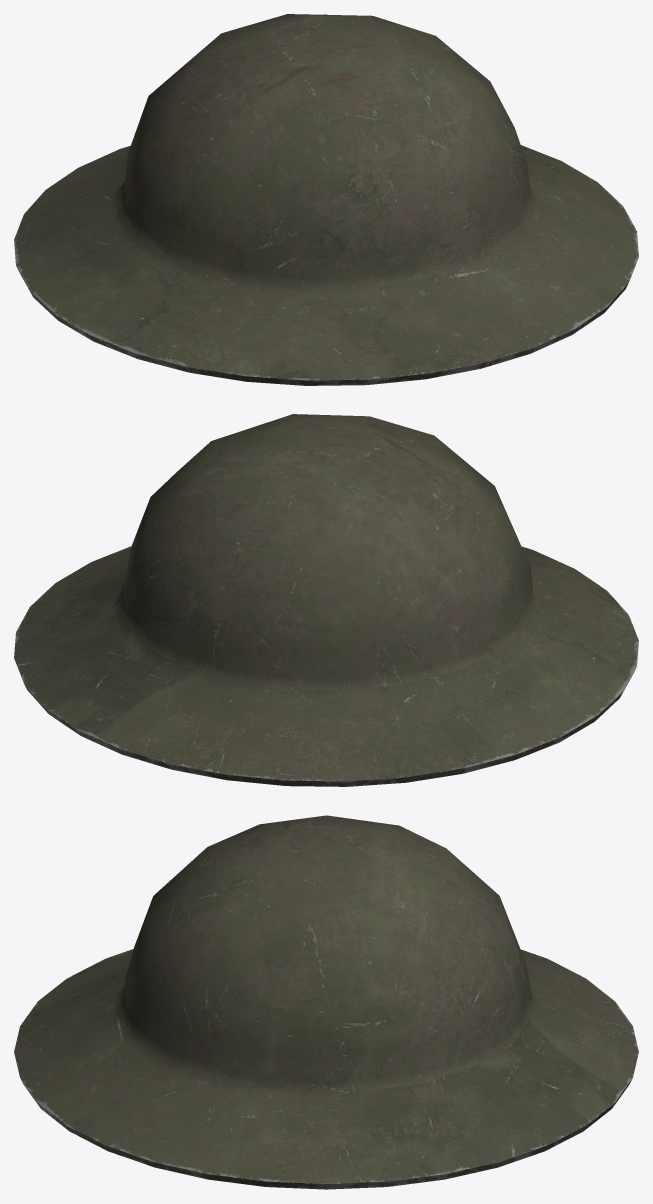
The model's file is SM_HelmetBritish01.glb.
3 views of the same model, one above another, from view 1: azimuth 30°, elevation 25°; view 2: azimuth 150°, elevation 25°; view 3: azimuth 270°, elevation 25° (orthographic).
Parts seen in each view (by area): view 1: SM_HelmetBritish01; view 2: SM_HelmetBritish01; view 3: SM_HelmetBritish01.
Part boxes in pixels (<box>): SM_HelmetBritish01: <box>14,14,638,385</box>; SM_HelmetBritish01: <box>14,414,638,786</box>; SM_HelmetBritish01: <box>14,815,638,1189</box>.
Bounding box in the file's own units: 0.3741 × 0.1513 × 0.3741.
1 material, 1 textured.
